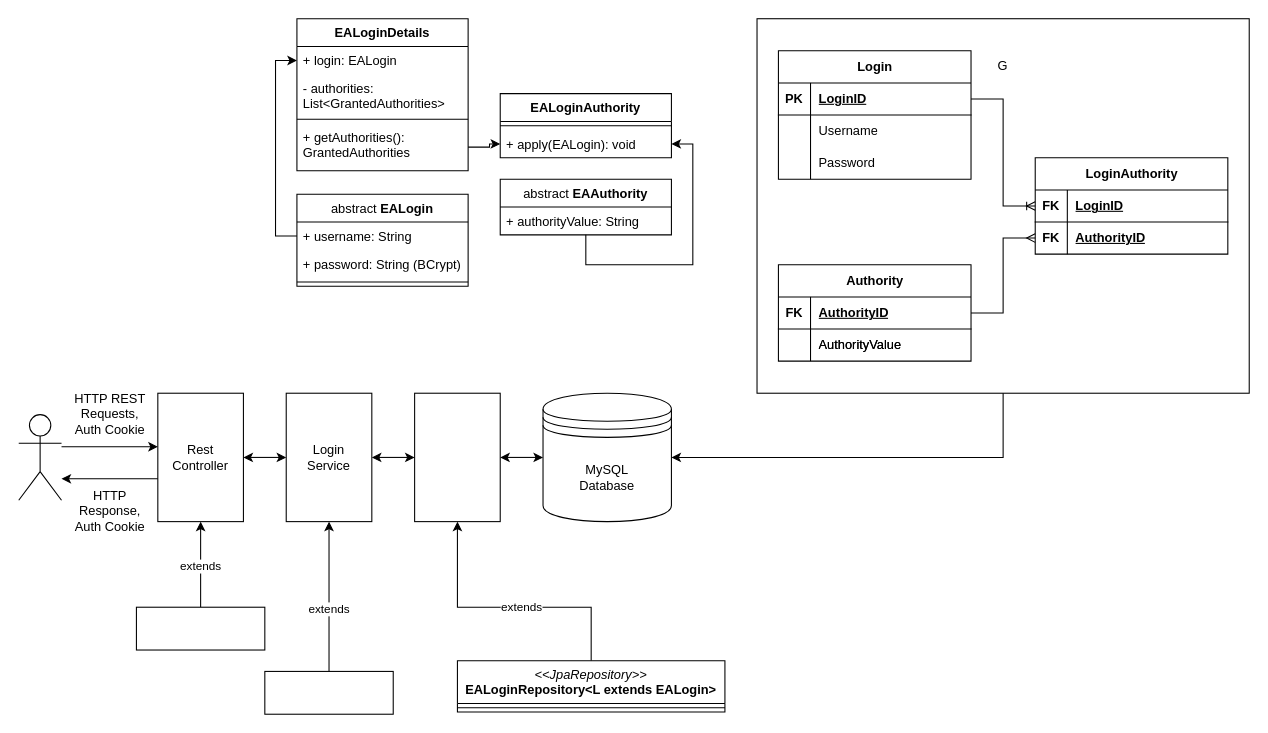
This 1268x733 diagram has some shape labels left out. Each missing label, with the centre of its shape:
Client: point (40, 457)
EALoginController <L extends EALogin>: point (200, 628)
EALoginService <L extends EALogin>: point (328, 692)
Spring JPA Repository: point (457, 457)
